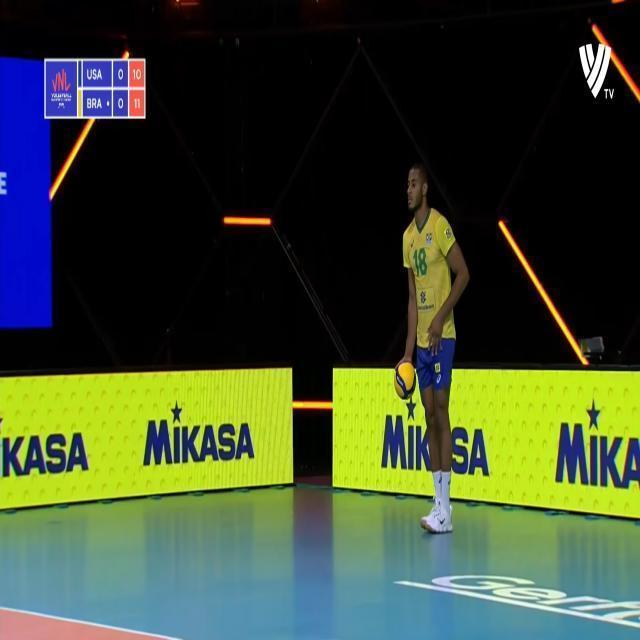volleyball: (394, 362, 416, 400)
